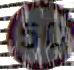Speed limit: (3, 1, 73, 69)
